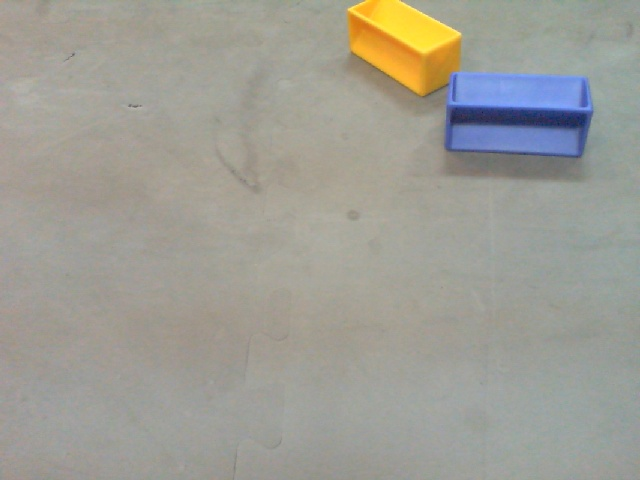BlueSample: (445, 69, 595, 162)
YellowSample: (345, 1, 461, 98)
